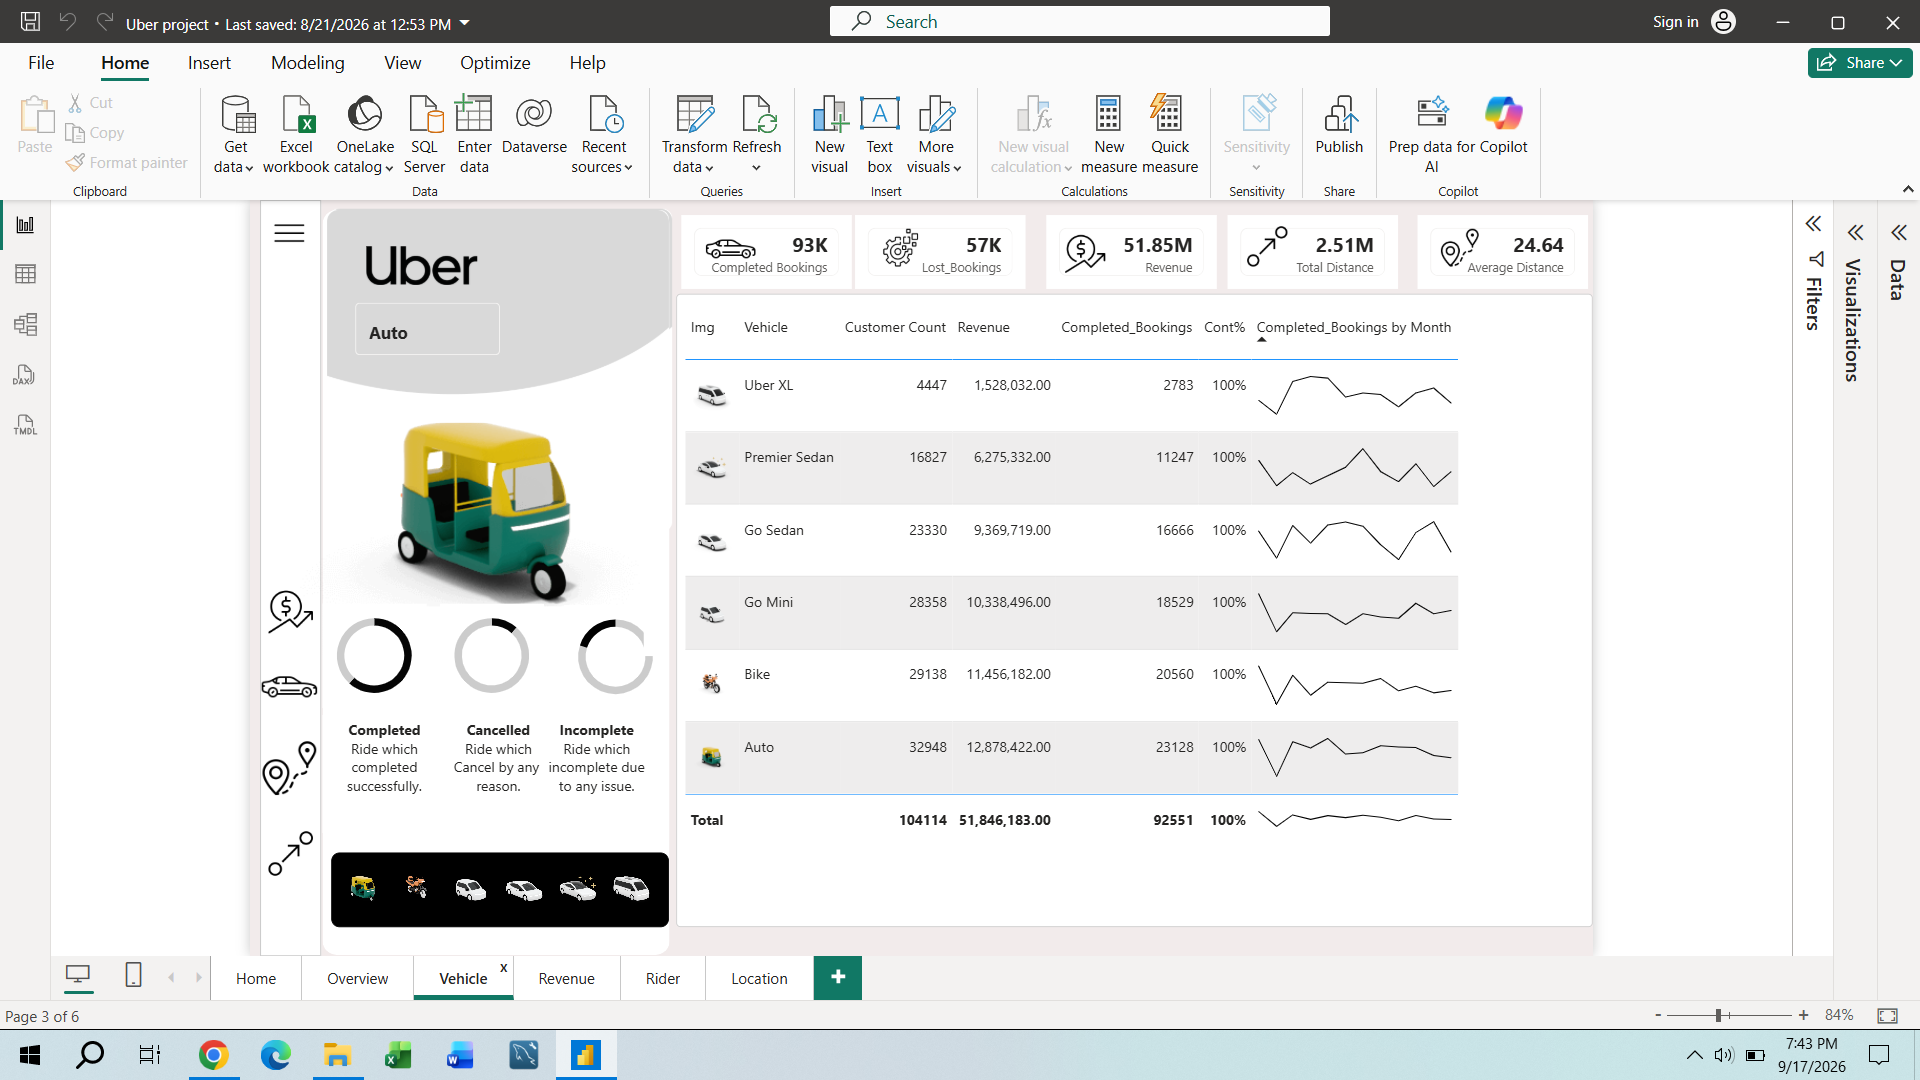

The page's visual inventory and layout, read from the dashboard file:
{"tool":"powerbi","page":{"name":"Vehicle","canvas":[1280,720],"ordinal":2},"visuals":[{"type":"image","box":[42.9,8.3,391.7,307.1],"z":0},{"type":"cardVisual","fields":{"Data":["Min(IMG.Img)"]},"box":[77.4,20.2,321.4,233.3],"z":1000},{"type":"shape","box":[9.5,0,58.3,720.2],"z":2000},{"type":"image","box":[20.2,11.9,35.7,40.5],"z":3000},{"type":"image","box":[51.2,9.5,347.6,275],"z":4000},{"type":"shape","box":[68.6,9.6,330.7,709.4],"z":5000},{"type":"image","box":[23.8,9.5,425,306],"z":6000},{"type":"image","box":[96.4,44,134.5,36.9],"z":7000},{"type":"cardVisual","fields":{"Data":["_Measures.Completed_Bookings"]},"box":[406,9.3,172,80],"z":8000},{"type":"cardVisual","fields":{"Data":["_Measures.Lost_Bookings"]},"box":[571.4,9.3,172,80],"z":9000},{"type":"cardVisual","fields":{"Data":["_Measures.Average_Distance"]},"box":[1107.1,9.3,172,80],"z":10000},{"type":"cardVisual","fields":{"Data":["_Measures.Total_Distance"]},"box":[926.2,9.3,172,80],"z":11000},{"type":"cardVisual","fields":{"Data":["_Measures.Revenue"]},"box":[753.6,9.3,172,80],"z":12000},{"type":"cardVisual","fields":{"Data":["Min(IMG.Vehicle Type)"]},"box":[83.3,81,172.6,84.5],"z":13000},{"type":"cardVisual","fields":{"Data":["Min(IMG.Img)"]},"box":[0,19.9,448.1,384.8],"z":14000},{"type":"advancedSlicerVisual","fields":{"Values":["IMG.Vehicle Type"]},"box":[77.4,621.4,321.4,71.4],"z":15000},{"type":"image","box":[776.2,31,38.1,39.3],"z":16000},{"type":"image","box":[944.1,25,50,38.1],"z":17000},{"type":"image","box":[1123.8,27.4,57.1,35.7],"z":18000},{"type":"image","box":[589.3,27.4,60.7,35.7],"z":19000},{"type":"image","box":[421.4,22.6,72.6,47.6],"z":20000},{"type":"donutChart","fields":{"Y":["_Measures.Bookings_Remove_Status_Filter","_Measures.Booking_Count"]},"box":[299.2,386,99,99],"z":21000},{"type":"donutChart","fields":{"Y":["_Measures.Booking_Count","_Measures.Bookings_Remove_Status_Filter"]},"box":[181.2,384.8,99,99],"z":22000},{"type":"donutChart","fields":{"Y":["_Measures.Bookings_Remove_Status_Filter","_Measures.Booking_Count"]},"box":[69.5,384.8,99,99],"z":23000},{"type":"textbox","box":[69.5,490.3,117.9,111.7],"z":24000},{"type":"textbox","box":[187.4,490.3,99.3,80.7],"z":25000},{"type":"textbox","box":[375,404.8,13.1,29.8],"z":26000},{"type":"textbox","box":[276.8,490.3,105.5,80.7],"z":27000},{"type":"tableEx","title":"Revenue","fields":{"Values":["IMG.Img","Uber.Ve_type","_Measures.Customer_Count","_Measures.Revenue","_Measures.Completed_Bookings","_Measures.Cont%","SparklineData(_Measures.Completed_Bookings_[Calender.Date.Variation.Date Hierarchy.Month])"]},"box":[406,89.3,872.6,603.6],"z":28000},{"type":"image","box":[7.4,369.9,63.3,42.2],"z":29000},{"type":"image","box":[7.4,436.9,60.8,53.4],"z":30000},{"type":"image","box":[12.4,510.2,50.9,60.8],"z":31000},{"type":"image","box":[5,600.8,68.3,42.2],"z":32000}]}

Visuals, with their boxes on the page's 1280x720 design canvas (x1, y1, x2, y2). These are canvas units, not pixel positions in the 1920x1080 screenshot, which may show the page scaled, cropped or inside an application window:
image: box=[43, 8, 435, 315]
cardVisual - Min(IMG.Img): box=[77, 20, 399, 254]
shape: box=[10, 0, 68, 720]
image: box=[20, 12, 56, 52]
image: box=[51, 10, 399, 284]
shape: box=[69, 10, 399, 719]
image: box=[24, 10, 449, 316]
image: box=[96, 44, 231, 81]
cardVisual - _Measures.Completed_Bookings: box=[406, 9, 578, 89]
cardVisual - _Measures.Lost_Bookings: box=[571, 9, 743, 89]
cardVisual - _Measures.Average_Distance: box=[1107, 9, 1279, 89]
cardVisual - _Measures.Total_Distance: box=[926, 9, 1098, 89]
cardVisual - _Measures.Revenue: box=[754, 9, 926, 89]
cardVisual - Min(IMG.Vehicle Type): box=[83, 81, 256, 166]
cardVisual - Min(IMG.Img): box=[0, 20, 448, 405]
advancedSlicerVisual - IMG.Vehicle Type: box=[77, 621, 399, 693]
image: box=[776, 31, 814, 70]
image: box=[944, 25, 994, 63]
image: box=[1124, 27, 1181, 63]
image: box=[589, 27, 650, 63]
image: box=[421, 23, 494, 70]
donutChart - _Measures.Bookings_Remove_Status_Filter x _Measures.Booking_Count: box=[299, 386, 398, 485]
donutChart - _Measures.Booking_Count x _Measures.Bookings_Remove_Status_Filter: box=[181, 385, 280, 484]
donutChart - _Measures.Bookings_Remove_Status_Filter x _Measures.Booking_Count: box=[70, 385, 168, 484]
textbox: box=[70, 490, 187, 602]
textbox: box=[187, 490, 287, 571]
textbox: box=[375, 405, 388, 435]
textbox: box=[277, 490, 382, 571]
"Revenue" tableEx: box=[406, 89, 1279, 693]
image: box=[7, 370, 71, 412]
image: box=[7, 437, 68, 490]
image: box=[12, 510, 63, 571]
image: box=[5, 601, 73, 643]
